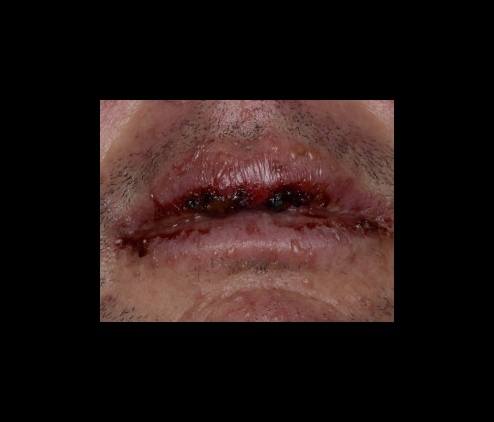SJS-TEN: (78, 109, 410, 325)
